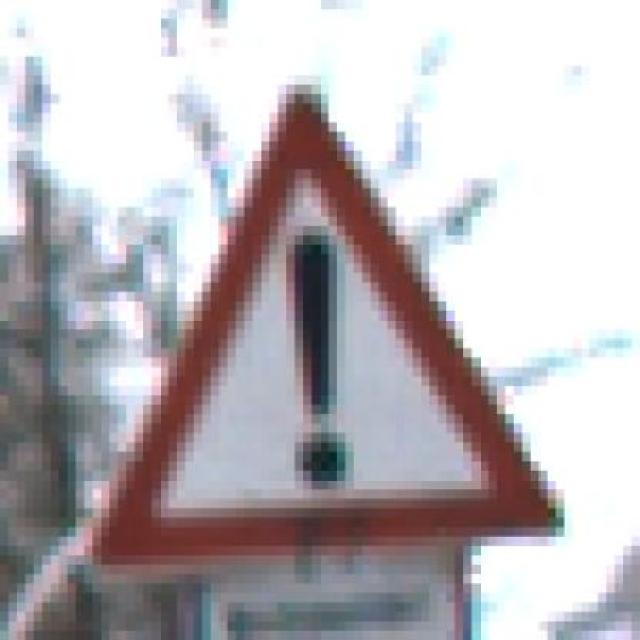Attention Please-: (67, 66, 581, 574)
